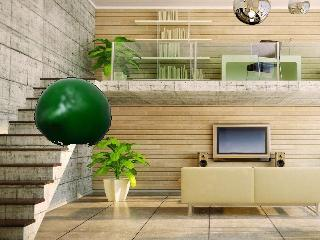lime: (32, 74, 114, 149)
